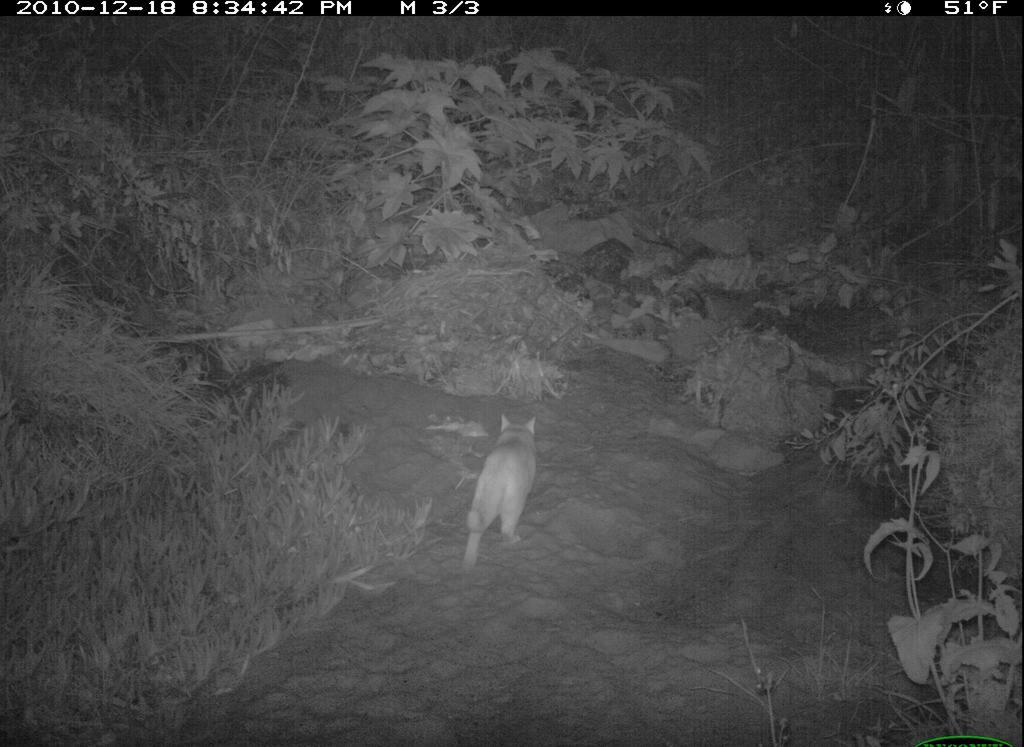cat: (452, 399, 564, 580)
